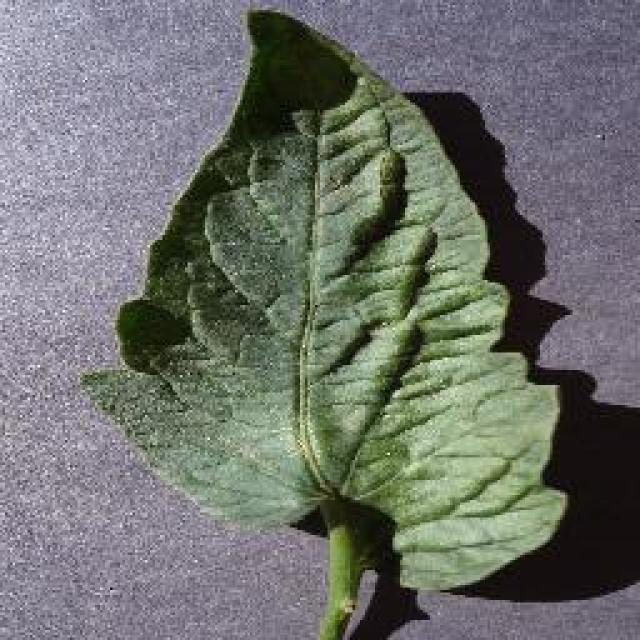Tomato healthy leaf: (92, 12, 572, 592)
